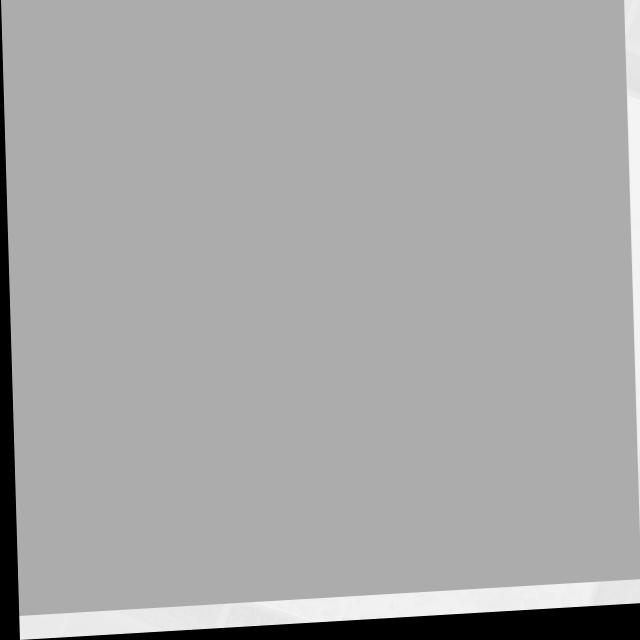qr_code: (0, 0, 636, 616)
